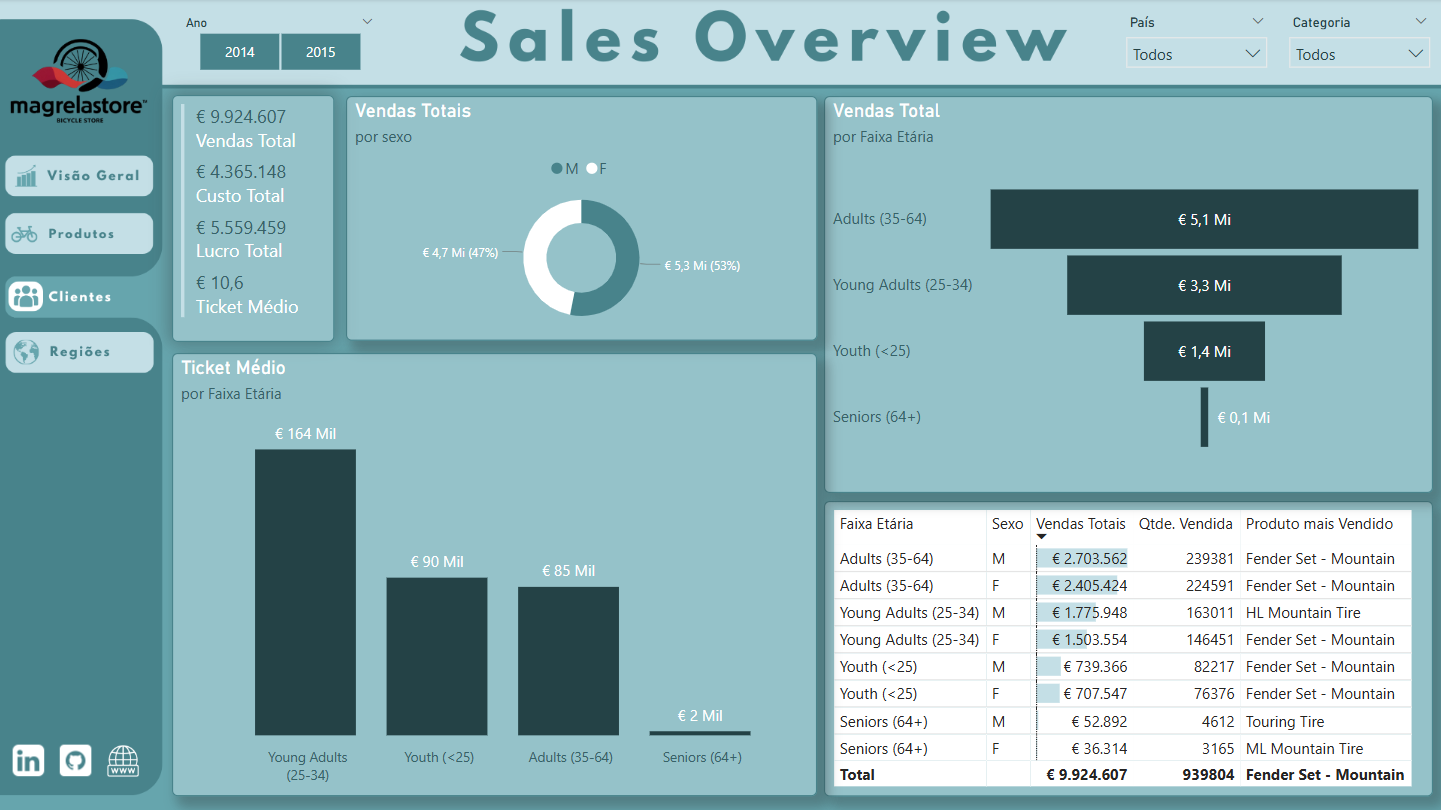

This screenshot's page, from the dashboard's own definition file:
{"tool":"powerbi","page":{"name":"Clientes","canvas":[1280,720],"ordinal":2},"visuals":[{"type":"actionButton","box":[0,293.5,141,39.9],"z":0},{"type":"actionButton","box":[0,189.8,141,39.9],"z":1000},{"type":"actionButton","box":[0,134.8,141,39.9],"z":2000},{"type":"image","box":[8,656.2,38.1,38.1],"z":3000},{"type":"image","box":[48.8,656.2,40.8,38.1],"z":4000},{"type":"image","box":[86.9,644.6,47.9,62.1],"z":5000},{"type":"actionButton","box":[0,654.4,46.1,39.9],"z":6000},{"type":"actionButton","box":[48.8,655.3,40.8,39.9],"z":7000},{"type":"actionButton","box":[89.6,654.4,47.9,40.8],"z":8000},{"type":"tableEx","fields":{"Values":["Dim_Customer.Age_Group","Dim_Customer.Customer_Gender","#Medidas.01 Vendas Totais","#Medidas.06 Qtde. Vendida","#Medidas.Produto Mais Comprado"]},"box":[732.4,445.1,540,261.6],"z":9000},{"type":"funnel","title":"Vendas Total","fields":{"Category":["Dim_Customer.Age_Group"],"Y":["#Medidas.01 Vendas Totais"]},"box":[732.4,86,540,352],"z":10000},{"type":"donutChart","title":"Vendas Totais","fields":{"Y":["#Medidas.01 Vendas Totais"],"Category":["Dim_Customer.Customer_Gender"]},"box":[308.2,86.4,417.6,217.4],"z":11000},{"type":"slicer","fields":{"Values":["Dim_Dates.Ano"]},"box":[153.4,9.8,191.5,60.3],"z":12000},{"type":"slicer","fields":{"Values":["Dim_Geographic.Country"]},"box":[990.3,8.5,144.8,61.1],"z":13000},{"type":"slicer","fields":{"Values":["Dim_Product.Product_Category"]},"box":[1135.2,8.5,144.8,61.1],"z":14000},{"type":"multiRowCard","fields":{"Values":["#Medidas.01 Vendas Totais","#Medidas.02 Custo Total","#Medidas.03 Lucro","#Medidas.10 Ticket Médio"]},"box":[154.1,85,144,218.9],"z":15000},{"type":"clusteredColumnChart","title":"Ticket Médio ","fields":{"Category":["Dim_Customer.Age_Group"],"Y":["#Medidas.18 Ticket Medio Cliente"]},"box":[154.1,313.9,571.7,393.1],"z":16000}]}

Visuals, with their boxes in screenshot pixels (x1, y1, x2, y2), scaled from the page's 1280x720 canvas onto the 1441x810 screenshot:
actionButton: detection(0, 330, 159, 375)
actionButton: detection(0, 214, 159, 258)
actionButton: detection(0, 152, 159, 197)
image: detection(9, 738, 52, 781)
image: detection(55, 738, 101, 781)
image: detection(98, 725, 152, 795)
actionButton: detection(0, 736, 52, 781)
actionButton: detection(55, 737, 101, 782)
actionButton: detection(101, 736, 155, 782)
tableEx - Dim_Customer.Age_Group x Dim_Customer.Customer_Gender: detection(825, 501, 1432, 795)
"Vendas Total" funnel: detection(825, 97, 1432, 493)
"Vendas Totais" donutChart: detection(347, 97, 817, 342)
slicer - Dim_Dates.Ano: detection(173, 11, 388, 79)
slicer - Dim_Geographic.Country: detection(1115, 10, 1278, 78)
slicer - Dim_Product.Product_Category: detection(1278, 10, 1440, 78)
multiRowCard - #Medidas.01 Vendas Totais x #Medidas.02 Custo Total: detection(173, 96, 336, 342)
"Ticket Médio " clusteredColumnChart: detection(173, 353, 817, 795)
